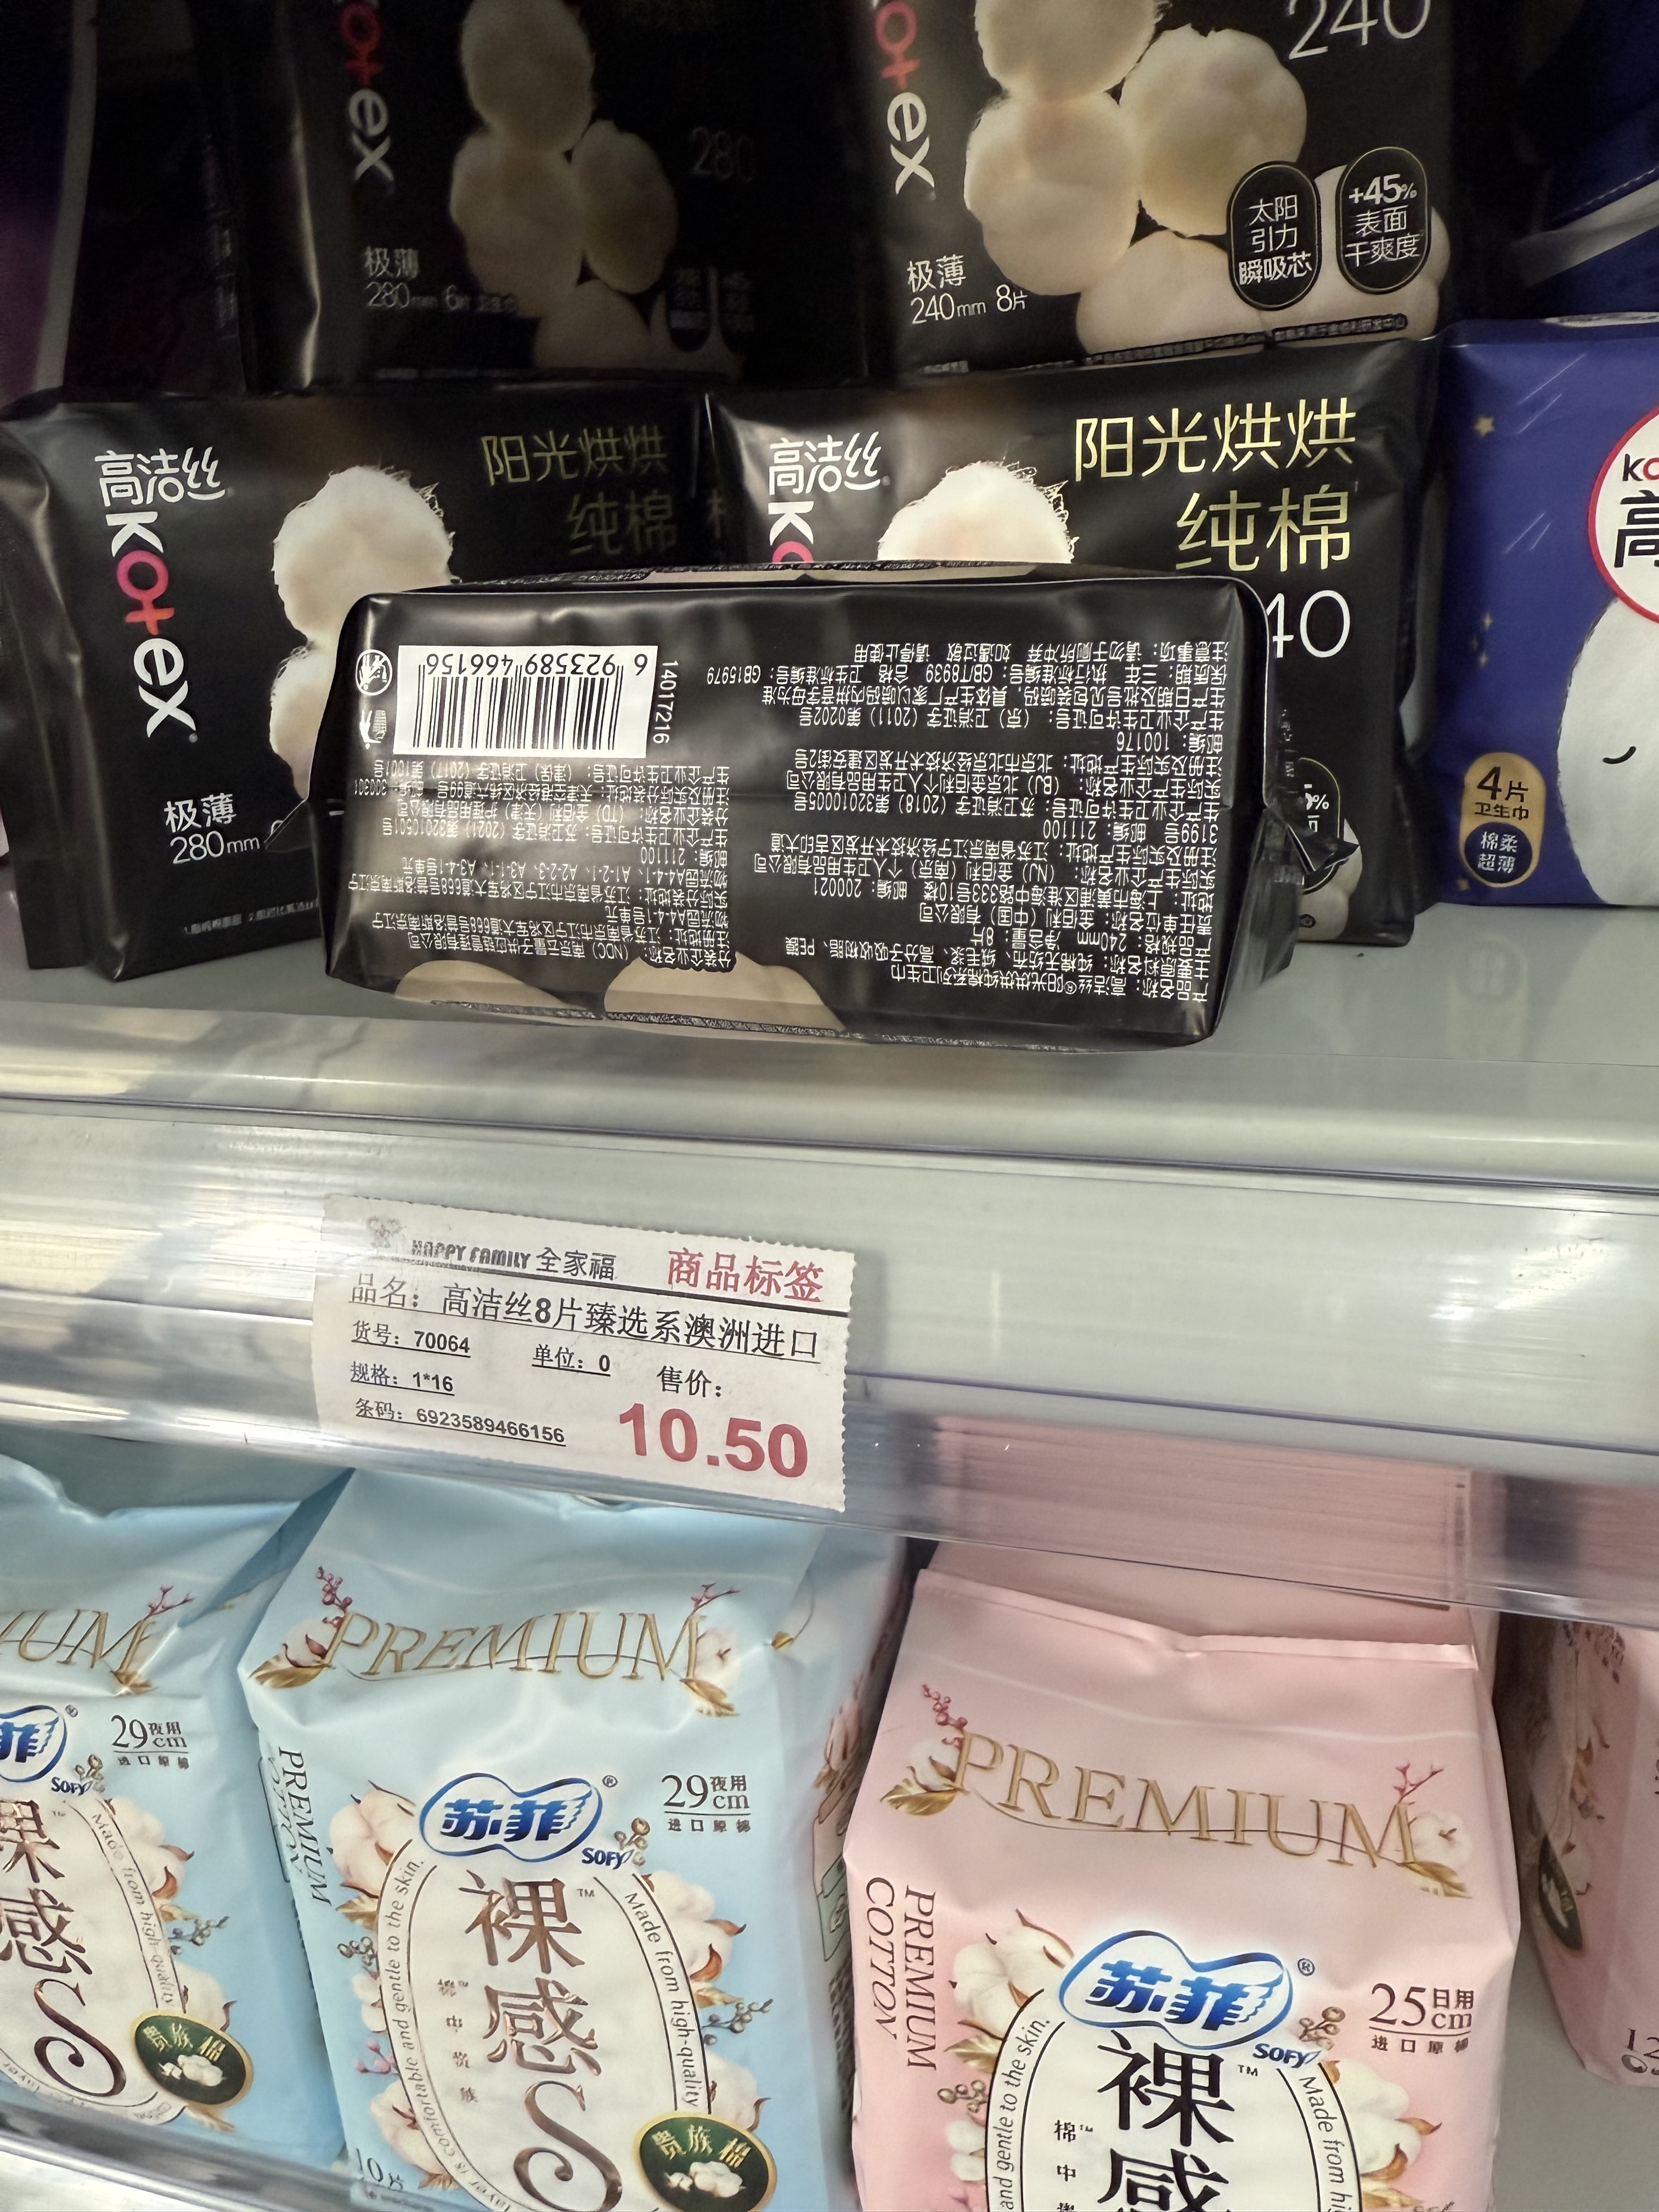bar: (406, 657, 626, 763)
